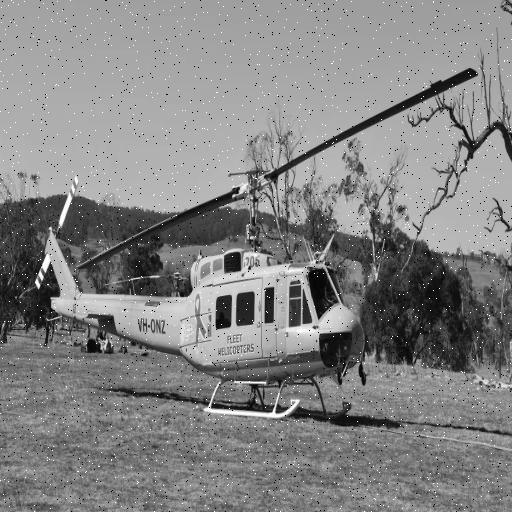helicopter: (25, 169, 386, 436)
